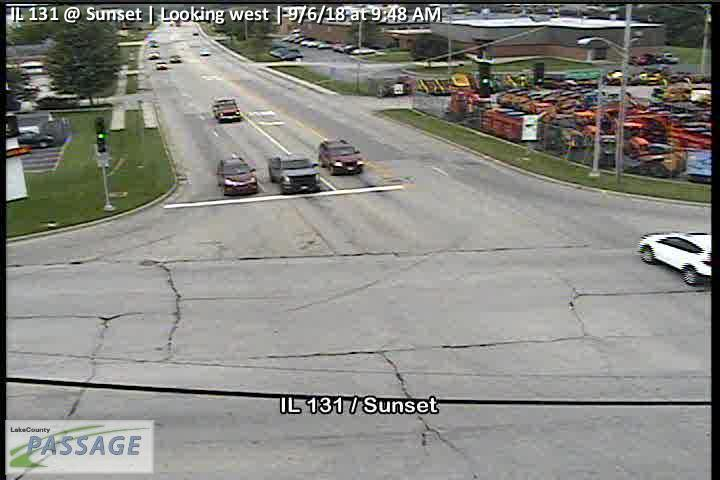Sedan: (637, 229, 714, 285), (270, 153, 321, 194), (217, 156, 259, 197), (320, 137, 363, 176), (211, 97, 241, 120)
